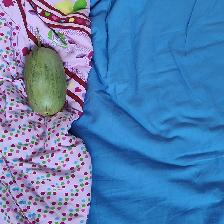gua: (26, 47, 64, 127)
